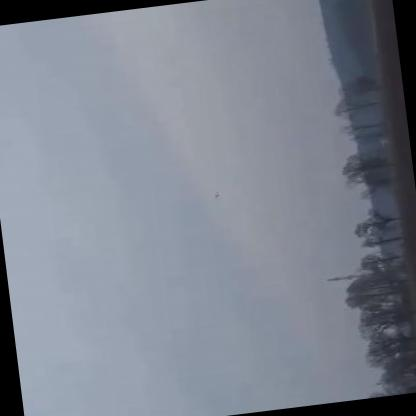plane: (207, 186, 226, 203)
